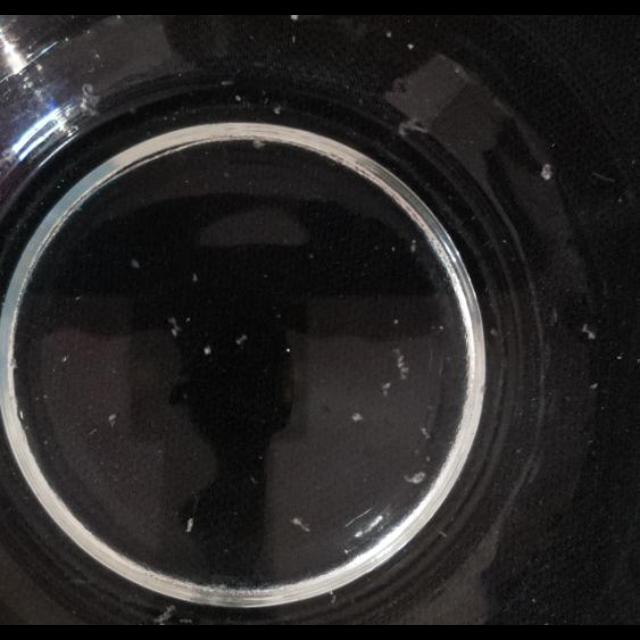Fibre: (392, 348, 410, 384), (154, 604, 176, 624), (291, 516, 311, 532), (168, 316, 182, 338), (405, 471, 427, 485), (252, 139, 266, 149)
microbeads: (580, 324, 596, 340), (540, 162, 552, 180), (235, 333, 247, 345), (381, 382, 391, 394), (421, 427, 431, 439), (351, 412, 363, 422), (272, 104, 282, 114), (131, 258, 141, 268), (88, 428, 98, 438), (108, 412, 116, 423), (192, 272, 200, 282), (409, 242, 417, 252), (490, 328, 498, 338), (203, 345, 211, 355), (588, 382, 598, 390), (61, 353, 69, 362), (234, 94, 242, 102), (18, 410, 24, 420), (616, 354, 624, 361), (407, 42, 415, 49), (392, 318, 398, 326), (439, 324, 445, 332), (386, 30, 392, 38), (284, 346, 290, 354)
